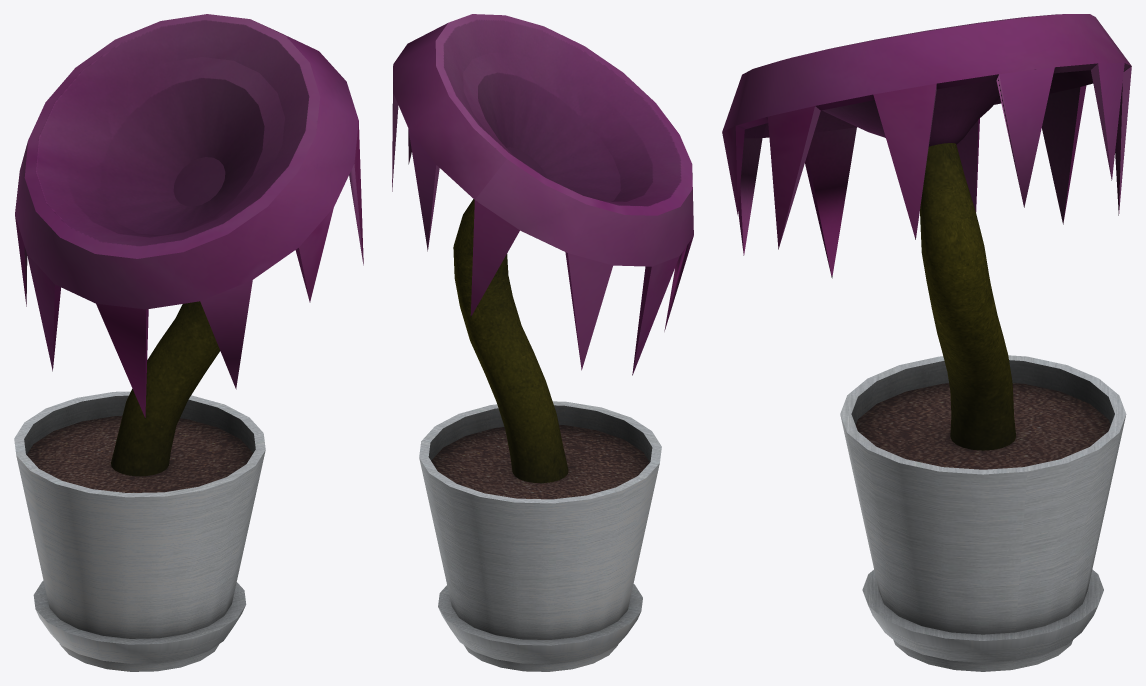
File: Plant.fbx
The picture shows the model from 3 angles, left to right: view 1: azimuth 30°, elevation 25°; view 2: azimuth 150°, elevation 25°; view 3: azimuth 270°, elevation 25°; orthographic projection. The views are drawn at different scales.
Visible parts, largest first — view 1: Plant; view 2: Plant; view 3: Plant.
Part boxes in pixels (box(x1,y1,x2,y2)): Plant: box(14, 14, 363, 671); Plant: box(392, 14, 693, 671); Plant: box(722, 14, 1131, 671).
Bounding box in the file's own units: 3.9 × 7.85 × 4.35.
